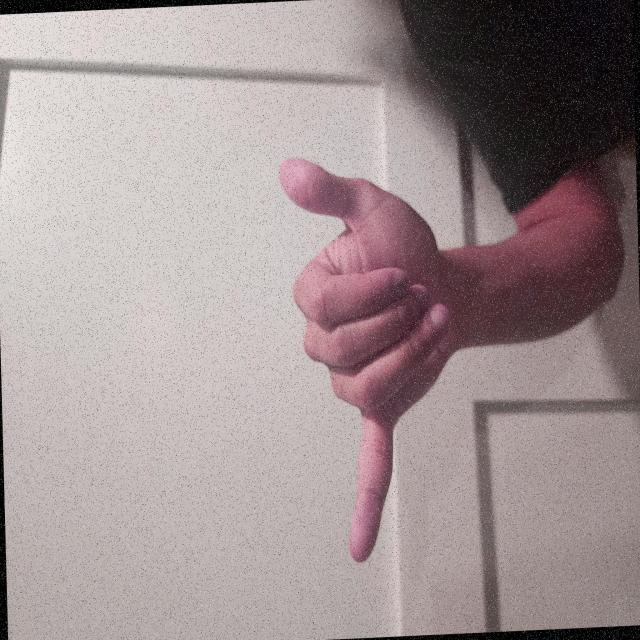Y: (54, 370, 376, 632)
